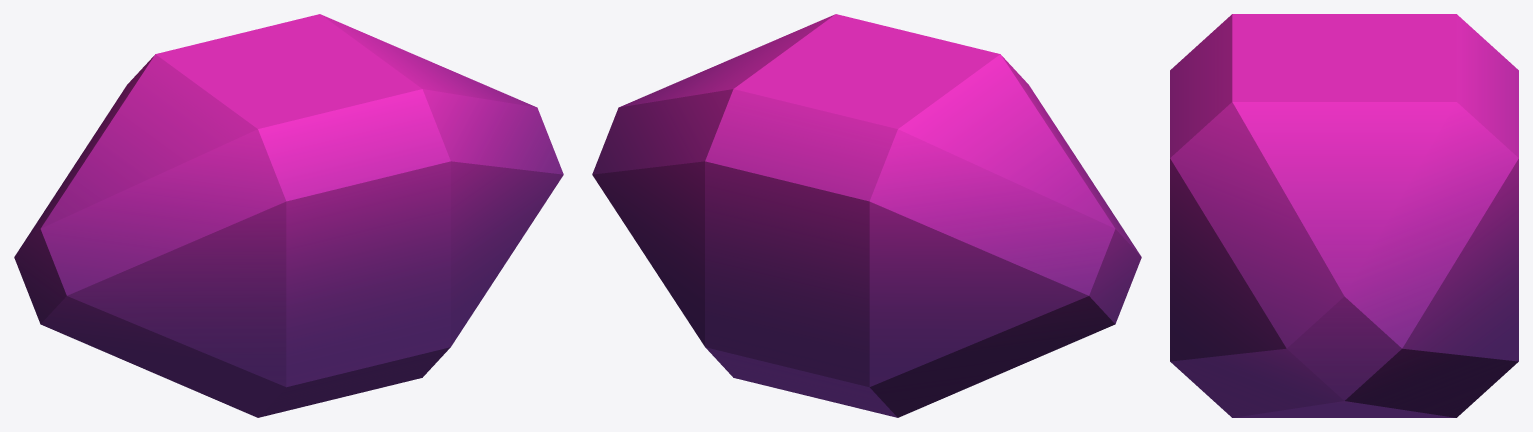
Rendered from Crystal_mini.fbx.
3 views of the same model, side by side, from view 1: azimuth 30°, elevation 25°; view 2: azimuth 150°, elevation 25°; view 3: azimuth 270°, elevation 25° (orthographic). The views are drawn at different scales.
Visible parts, largest first — view 1: Crystal_mini; view 2: Crystal_mini; view 3: Crystal_mini.
Boxes of the visible parts, x1=… form: Crystal_mini: x1=14, y1=14, x2=563, y2=417; Crystal_mini: x1=592, y1=14, x2=1141, y2=417; Crystal_mini: x1=1170, y1=14, x2=1518, y2=417.
Bounding box in the file's own units: 17.07 × 9.48 × 9.48.
